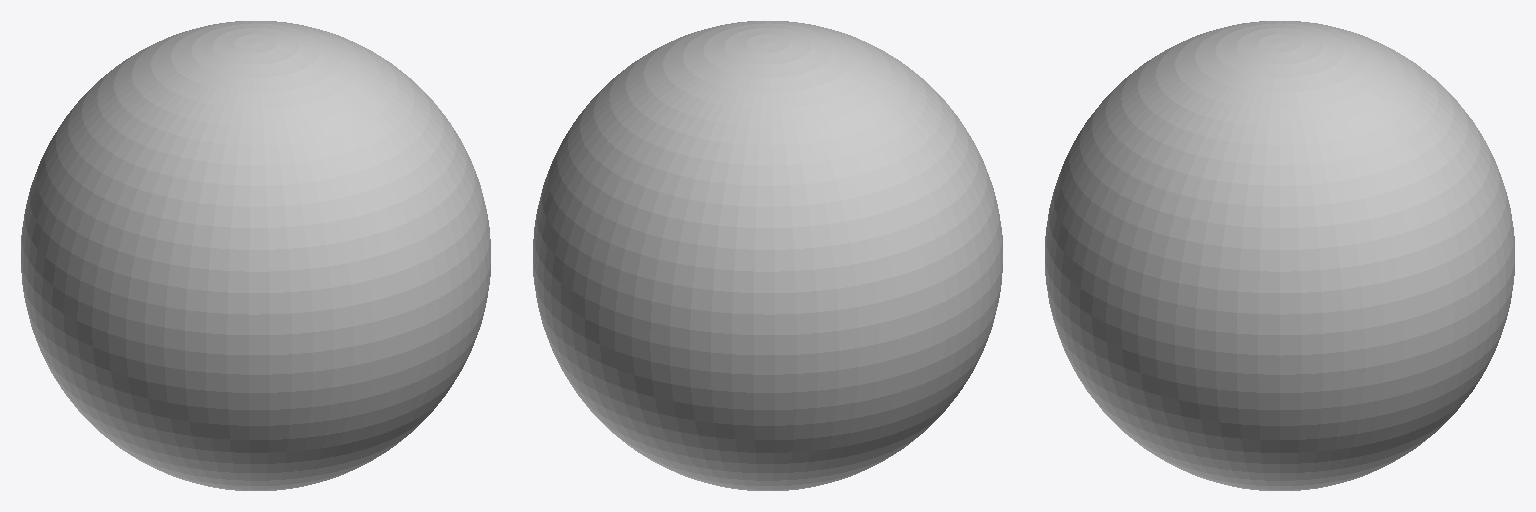
Rendered from FUTURISTICSHIP.obj.
3 views of the same model, side by side, from view 1: azimuth 30°, elevation 25°; view 2: azimuth 150°, elevation 25°; view 3: azimuth 270°, elevation 25° (orthographic).
Visible parts, largest first — view 1: Sphere; view 2: Sphere; view 3: Sphere.
Part boxes in pixels (left/top/right/bottom): Sphere: left=21, top=21, right=490, bottom=490; Sphere: left=533, top=21, right=1002, bottom=490; Sphere: left=1045, top=21, right=1514, bottom=490.
Bounding box in the file's own units: 513 × 513 × 513.